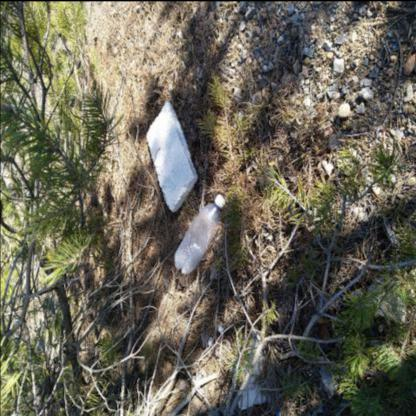Bottle: (215, 193, 226, 205)
Bottle cap: (174, 193, 226, 273)
Plastic bag - wrapper: (351, 276, 407, 323)
Styrofoam piece: (146, 100, 197, 211), (216, 324, 222, 332)
